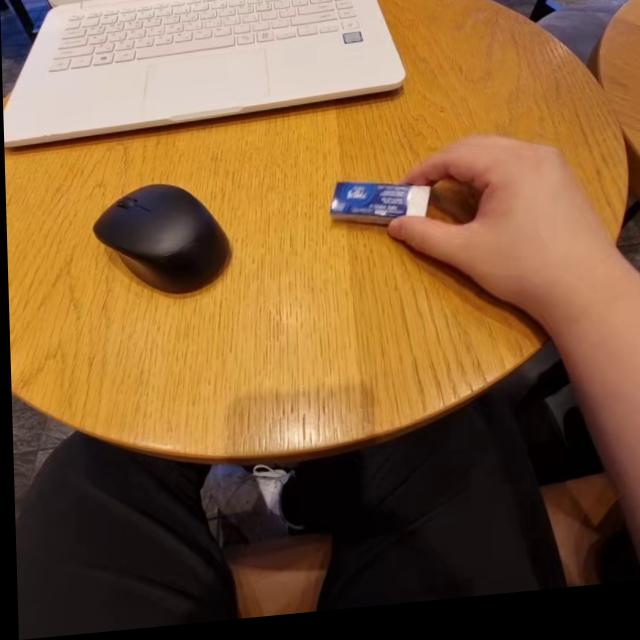grab_eraser: (332, 139, 620, 318)
mouse: (94, 177, 233, 306)
